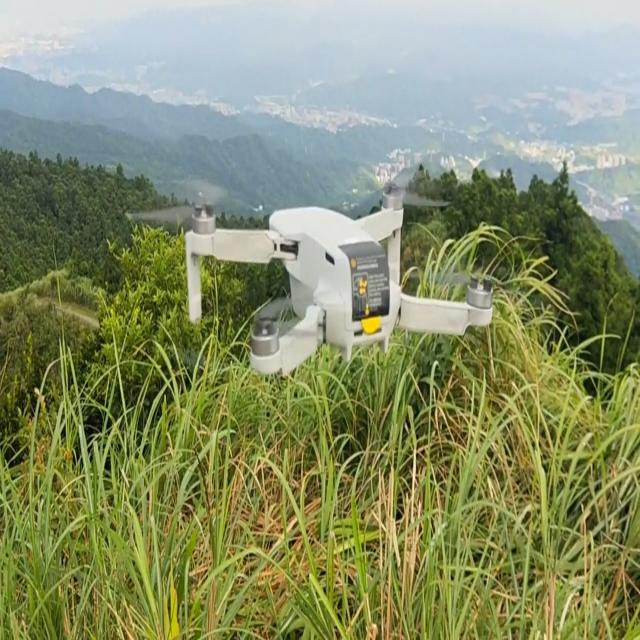Drone: (157, 199, 500, 389)
